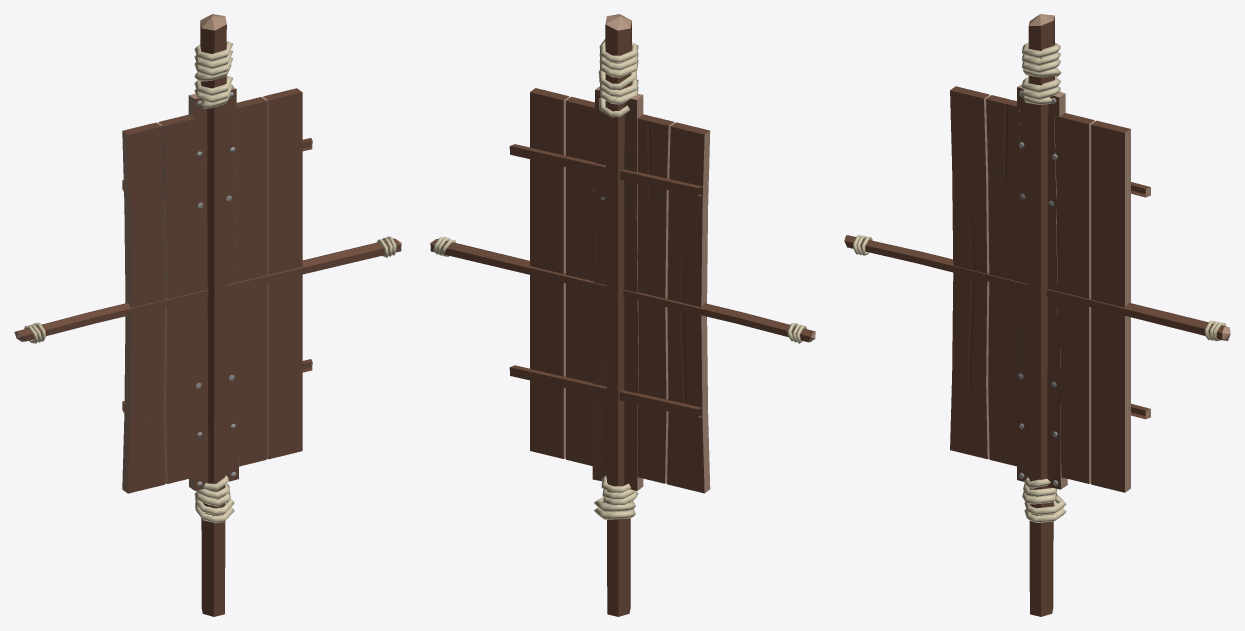
File: swamp_woodenpieces.fbx
3 views of the same model, side by side, from view 1: azimuth 30°, elevation 25°; view 2: azimuth 150°, elevation 25°; view 3: azimuth 330°, elevation 25° (orthographic).
Visible parts, largest first — view 1: SwampHut_wall_single, pole_03, pole_04, plank_03, plank_01, plank_02; view 2: SwampHut_wall_single, pole_03, pole_04, plank_03, plank_02, plank_01; view 3: SwampHut_wall_single, pole_03, pole_04, plank_03, plank_01, plank_02.
Part boxes in pixels (x1,y1,x2,y2): SwampHut_wall_single: (122,88,312,493); pole_03: (194,14,234,616); pole_04: (14,236,401,343); plank_03: (188,86,238,490); plank_01: (193,191,237,391); plank_02: (194,141,238,440); SwampHut_wall_single: (509,88,710,493); pole_03: (594,14,638,616); pole_04: (430,236,815,343); plank_03: (592,86,643,490); plank_02: (592,144,637,440); plank_01: (592,190,638,391); SwampHut_wall_single: (950,86,1150,492); pole_03: (1022,14,1066,616); pole_04: (844,235,1230,341); plank_03: (1017,84,1067,489); plank_01: (1015,193,1059,390); plank_02: (1019,142,1060,440).
Size of the model in its own units: 2.02 by 2.98 by 0.1968.
